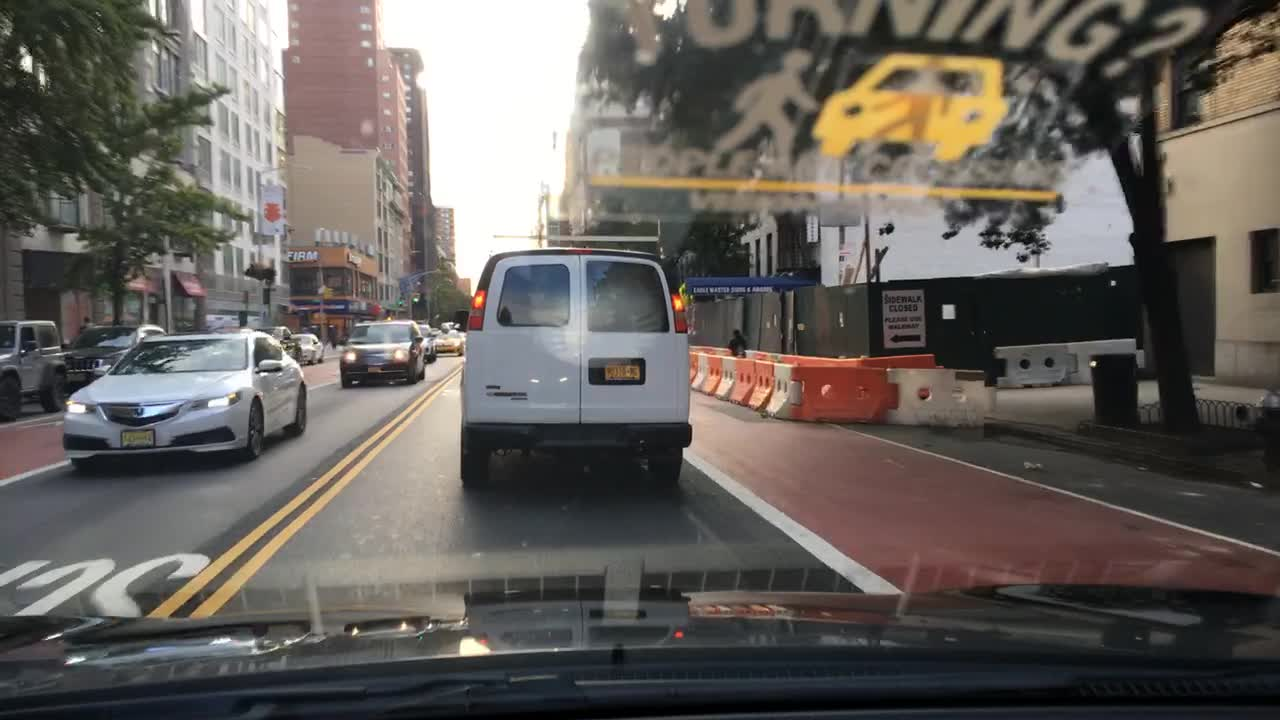car: (456, 234, 691, 490), (60, 325, 307, 474), (60, 321, 166, 391), (0, 319, 70, 420), (338, 316, 427, 390), (256, 324, 302, 360), (288, 331, 325, 365), (430, 328, 464, 359), (440, 321, 454, 332), (430, 326, 442, 336)
person: (727, 327, 750, 359), (76, 316, 91, 330)
traffic sign: (257, 184, 285, 235)
